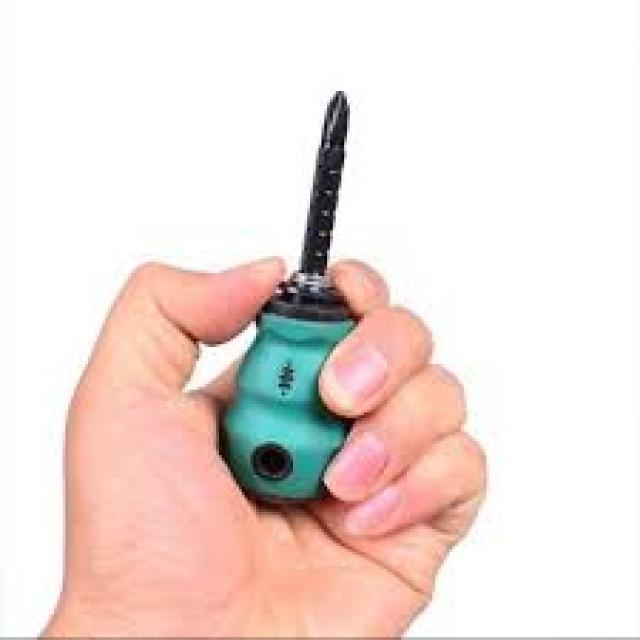screwdriver: (218, 86, 366, 507)
